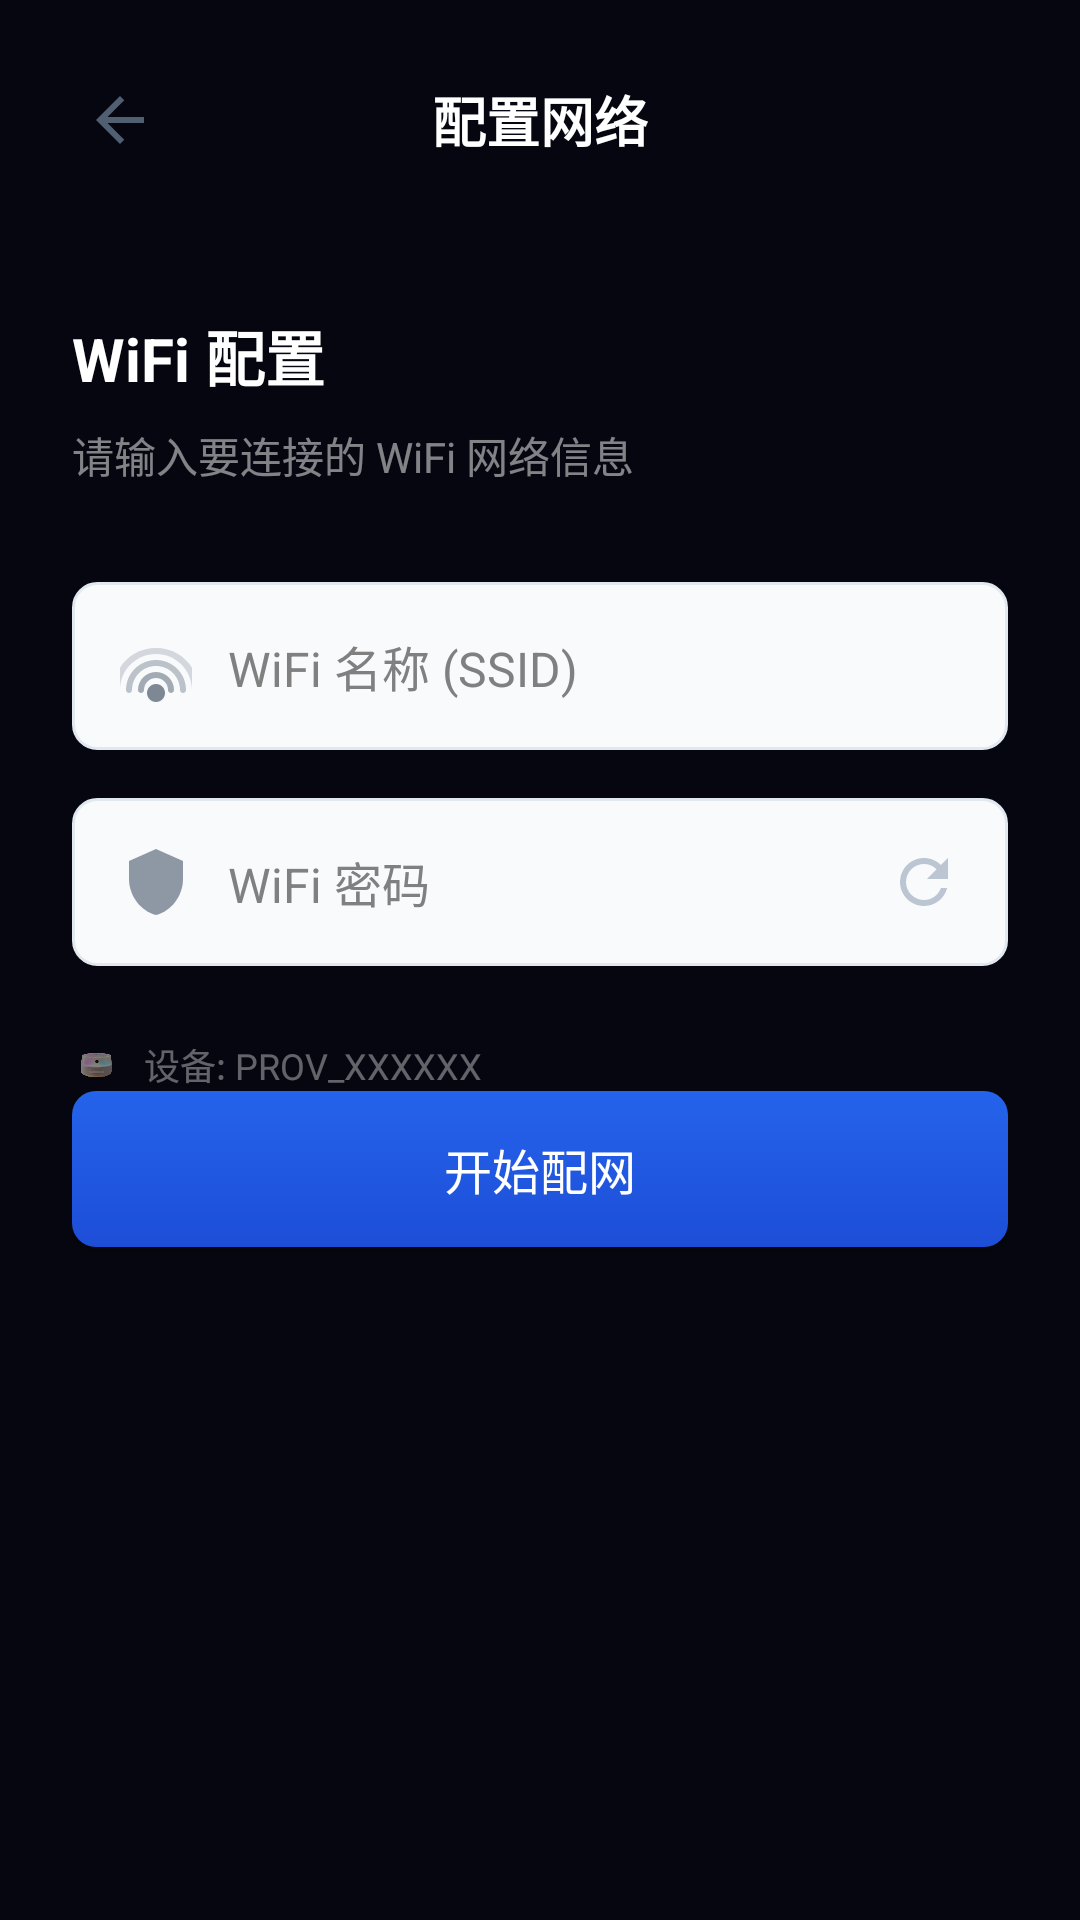

Screen size 1080px x 1920px. Icon name, then its box in pixels as (x1, y1, x2, y2):
arrow back: (96, 96, 144, 144)
device: (81, 1053, 112, 1077)
refresh: (900, 858, 948, 906)
shield: (129, 849, 183, 915)
